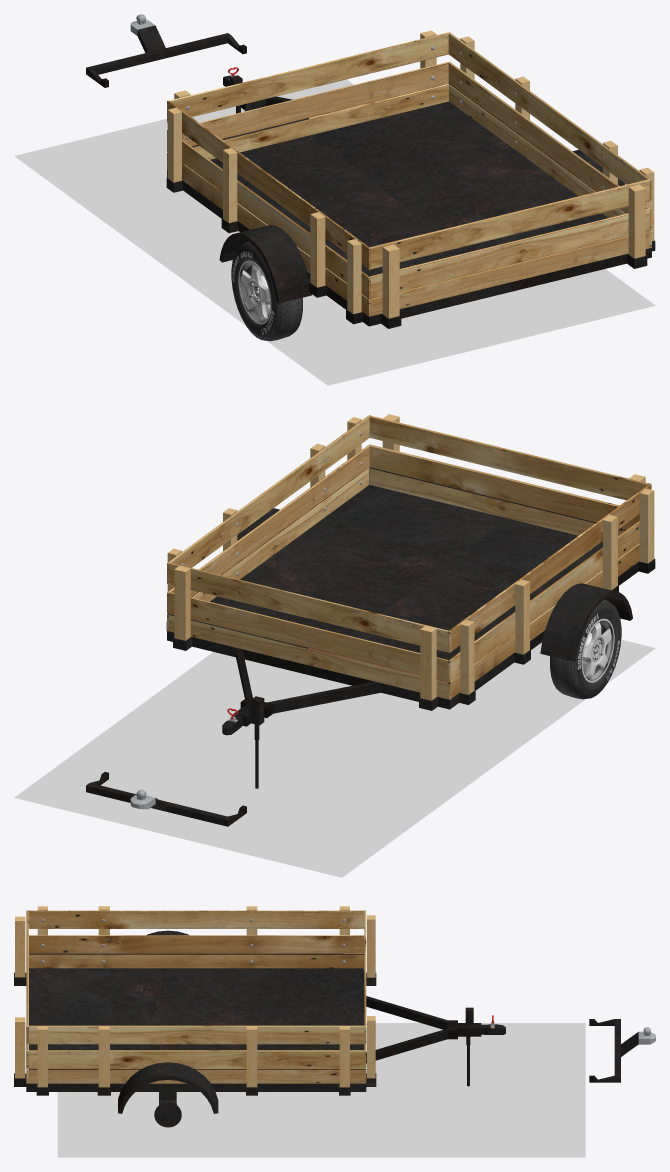
Rendered from carretinha.fbx.
The picture shows the model from 3 angles, top to bottom: view 1: azimuth 30°, elevation 25°; view 2: azimuth 150°, elevation 25°; view 3: azimuth 270°, elevation 25°; orthographic projection. The views are drawn at different scales.
Visible parts, largest first — view 1: Base, Plane, Tire, Engate, Rim; view 2: Base, Plane, Tire, Engate, Rim; view 3: Base, Plane, Engate.
Boxes of the visible parts, left/top/right/bottom form: Base: left=166, top=30, right=655, bottom=328; Plane: left=14, top=79, right=655, bottom=385; Tire: left=231, top=241, right=302, bottom=341; Engate: left=86, top=14, right=246, bottom=87; Rim: left=238, top=260, right=271, bottom=324; Base: left=166, top=414, right=655, bottom=735; Plane: left=14, top=639, right=655, bottom=877; Tire: left=550, top=600, right=621, bottom=699; Engate: left=86, top=772, right=246, bottom=826; Rim: left=581, top=618, right=614, bottom=682; Base: left=14, top=906, right=505, bottom=1127; Plane: left=57, top=1023, right=585, bottom=1157; Engate: left=589, top=1019, right=655, bottom=1082.
Size of the model in its own units: 216 by 84.87 by 403.
